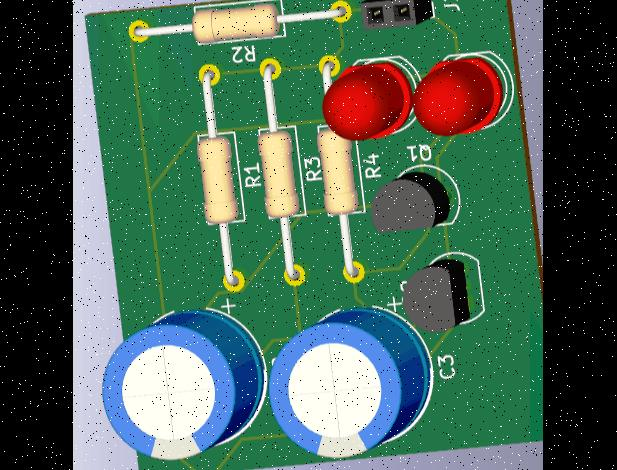capacitor: (98, 308, 267, 462), (268, 306, 436, 460)
red_led: (407, 53, 513, 137), (322, 56, 419, 140)
resistor: (189, 0, 285, 47), (316, 123, 362, 220), (256, 125, 301, 222), (196, 130, 240, 228)
transistor: (404, 249, 481, 329), (368, 168, 452, 234)
